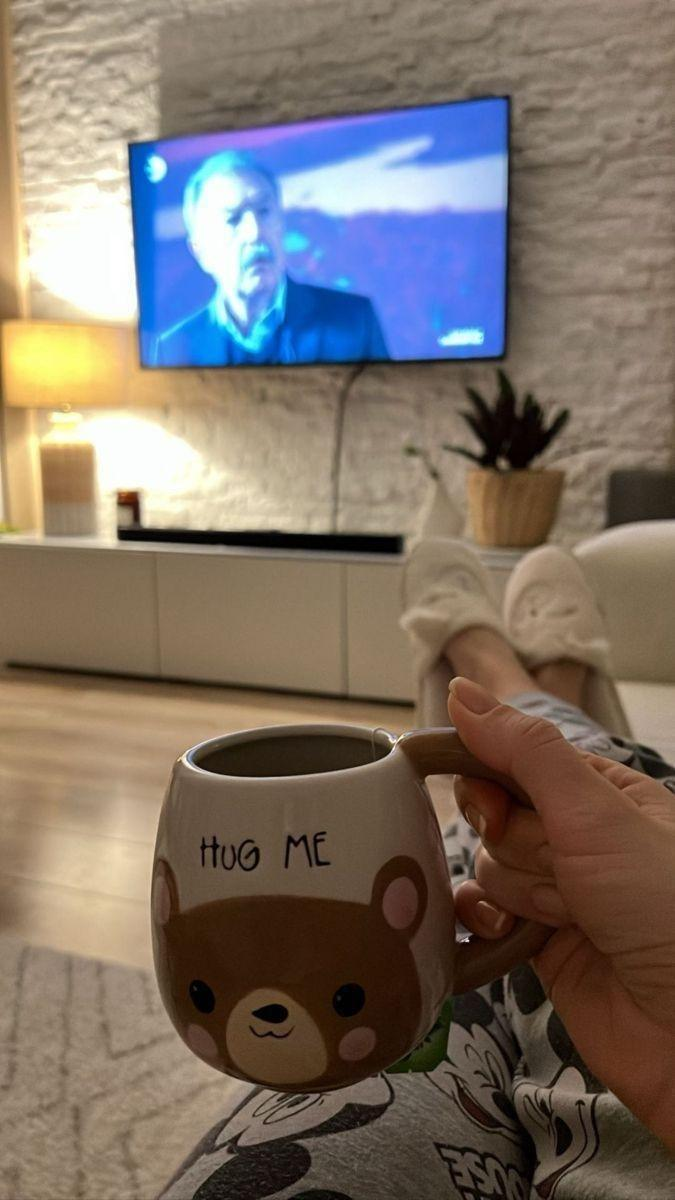cup-handle: (145, 719, 567, 1089)
